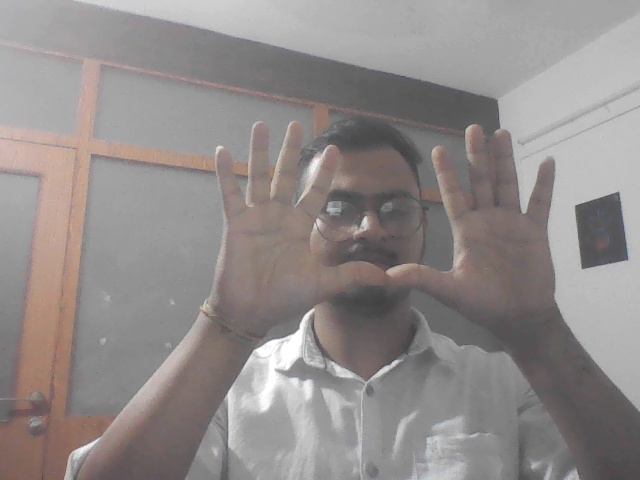Cheers: (202, 120, 565, 332)
